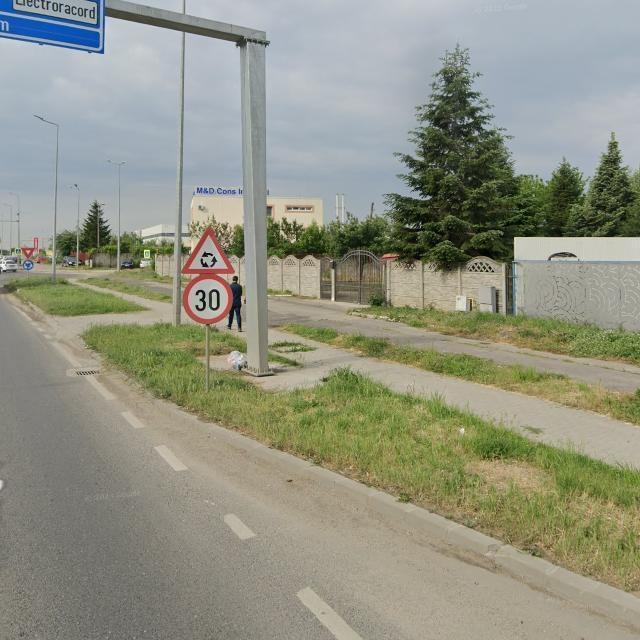forb_speed_over_30: (183, 276, 233, 325)
